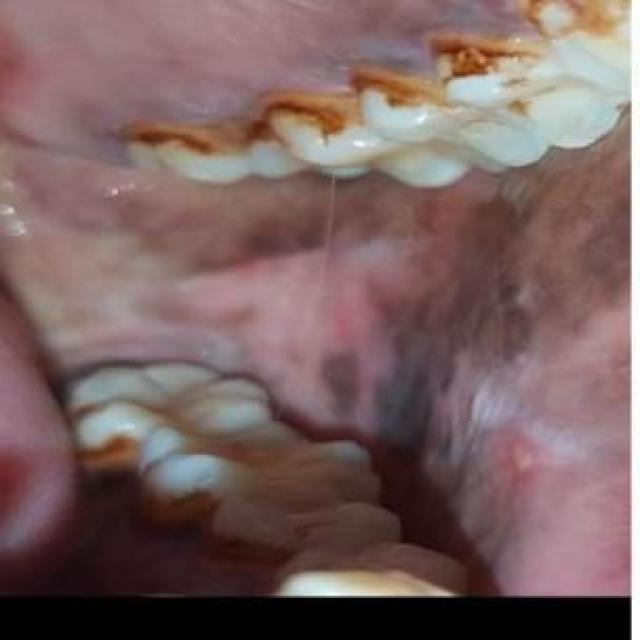leukoplakia-detection: (4, 150, 325, 375), (420, 342, 629, 527)
processing_area: (3, 4, 628, 601)
